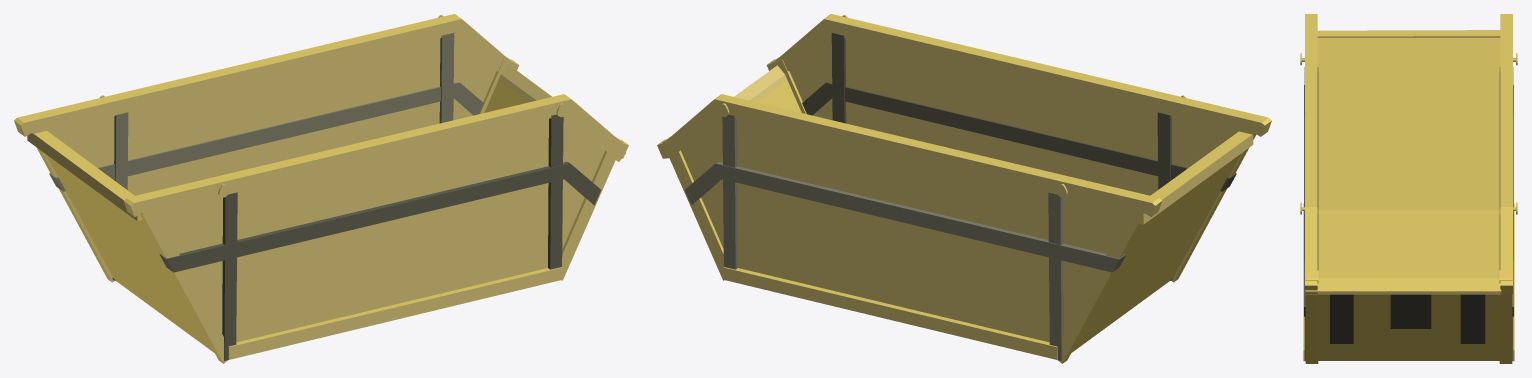
Rendered from BigTrashCan.fbx.
3 renders of one model, left to right at view 1: azimuth 30°, elevation 25°; view 2: azimuth 150°, elevation 25°; view 3: azimuth 270°, elevation 25°, orthographic. The views are drawn at different scales.
Parts seen in each view (by area): view 1: Group1167, Group1158, BigTrashCan, Group1156, Group1154, Group1152, Group1166, Group1153, Group1162, Group1163, Group1164, Group1168 (+3 smaller); view 2: Group1158, Group1167, BigTrashCan, Group1156, Group1152, Group1154, Group1159, Group1153, Group1170, Group1171, Group1155, Group1160 (+3 smaller); view 3: Group1156, BigTrashCan, Group1153, Group1168, Group1160, Group1171, Group1163, Group1155, Group1164, Group1154, Group1152, Group1159 (+1 smaller).
Part boxes in pixels (x1,y1,x2,y2): Group1167: (157,115,604,342); Group1158: (44,34,496,277); BigTrashCan: (14,14,628,216); Group1156: (46,65,625,352); Group1154: (159,161,600,272); Group1152: (49,82,483,191); Group1166: (228,267,562,359); Group1153: (27,131,142,221); Group1162: (140,212,228,363); Group1163: (222,192,237,360); Group1164: (548,114,563,269); Group1168: (561,137,623,280); Group1158: (681,115,1128,342); Group1167: (789,34,1241,277); BigTrashCan: (657,14,1271,216); Group1156: (734,65,1240,352); Group1152: (685,161,1126,272); Group1154: (802,82,1236,191); Group1159: (723,267,1057,359); Group1153: (1138,131,1253,224); Group1170: (1057,212,1142,363); Group1171: (1048,192,1063,360); Group1155: (722,114,737,269); Group1160: (662,137,724,280); Group1156: (1305,38,1501,360); BigTrashCan: (1300,14,1517,343); Group1153: (1317,30,1500,37); Group1168: (1305,270,1318,363); Group1160: (1499,270,1512,363); Group1171: (1499,67,1513,208); Group1163: (1304,67,1318,208); Group1155: (1499,209,1513,360); Group1164: (1304,209,1318,360); Group1154: (1304,85,1305,316); Group1152: (1512,85,1513,316); Group1159: (1512,203,1514,361).
Size of the model in its own units: 25.31 by 8.89 by 10.73.
